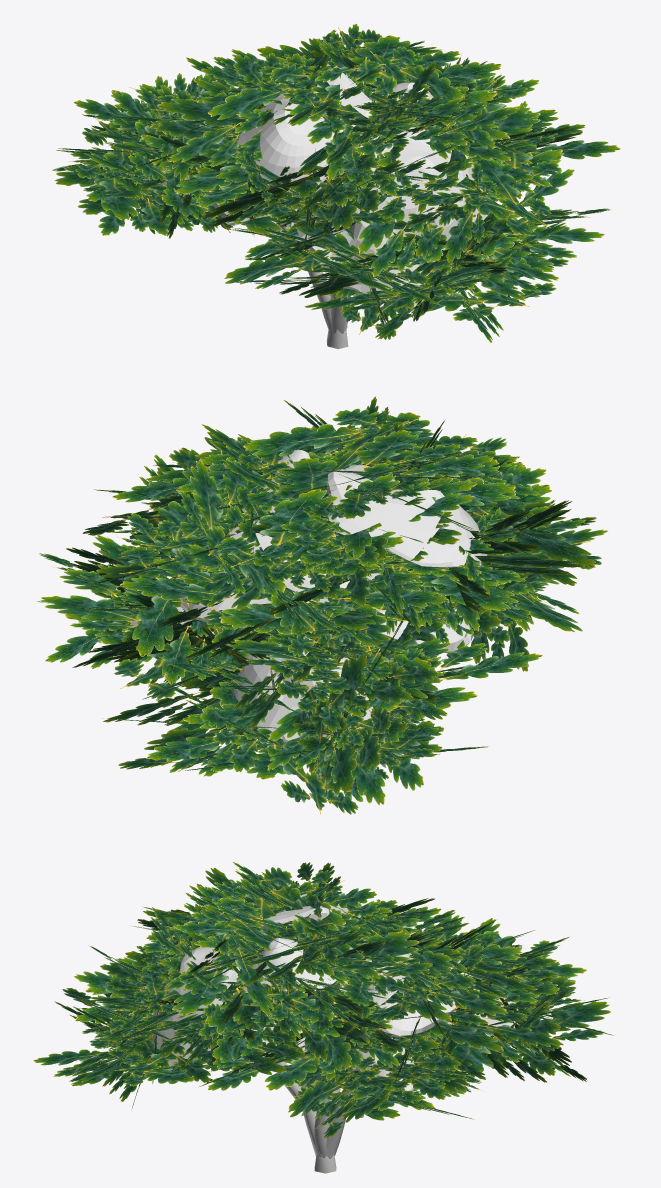
The model's file is 2дуб ум.fbx.
The picture shows the model from 3 angles, top to bottom: view 1: azimuth 30°, elevation 25°; view 2: azimuth 150°, elevation 25°; view 3: azimuth 270°, elevation 25°; orthographic projection. The views are drawn at different scales.
Visible parts, largest first — view 1: Sphere|Plane|Dupli|, Sphere, tree; view 2: Sphere|Plane|Dupli|, Sphere; view 3: Sphere|Plane|Dupli|, Sphere, tree.
Part boxes in pixels (x1,y1,x2,y2): Sphere|Plane|Dupli|: (52, 23, 620, 342); Sphere: (146, 64, 488, 306); tree: (276, 222, 350, 348); Sphere|Plane|Dupli|: (37, 396, 607, 814); Sphere: (130, 449, 487, 742); Sphere|Plane|Dupli|: (33, 862, 613, 1138); Sphere: (150, 884, 518, 1097); tree: (145, 1012, 347, 1173).
Bounding box in the file's own units: 3108 × 1860 × 3867.
